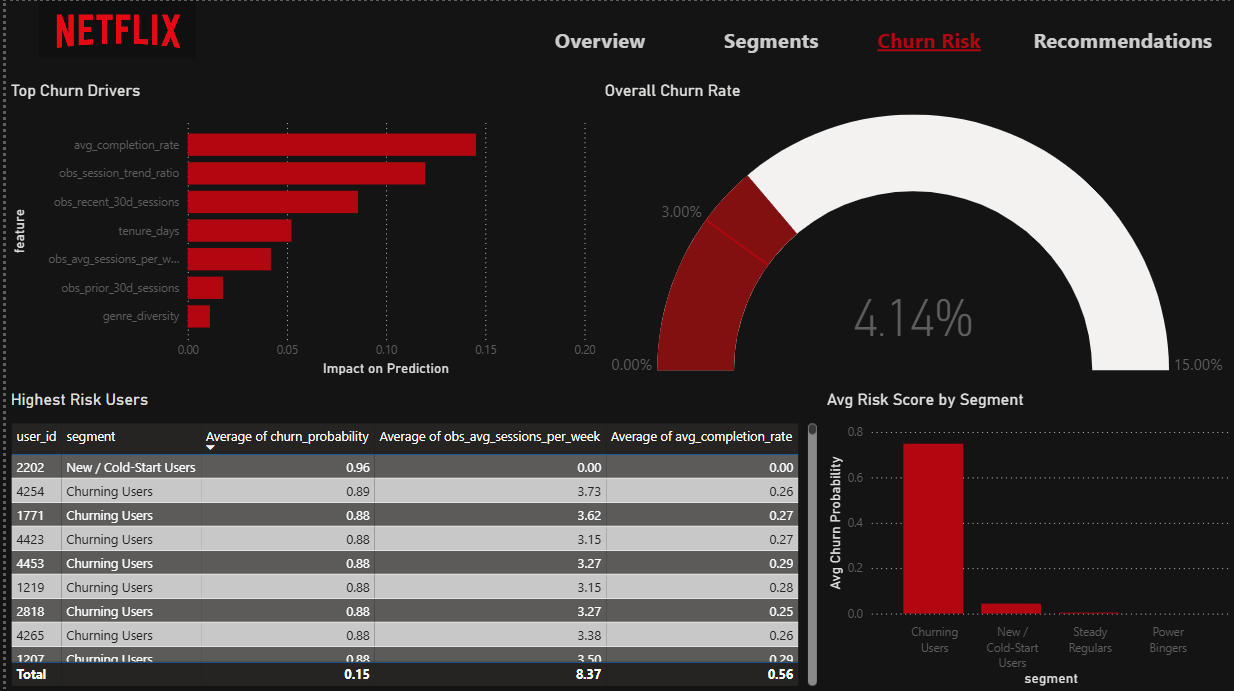

This screenshot's page, from the dashboard's own definition file:
{"tool":"powerbi","page":{"name":"Churn Risk","canvas":[1280,720],"ordinal":3},"visuals":[{"type":"image","box":[0,0,232.1,60],"z":4000},{"type":"clusteredBarChart","title":"Top Churn Drivers","fields":{"Category":["dashboard_shap_importance.feature"],"Y":["Sum(dashboard_shap_importance.mean_abs_shap)"]},"box":[0,83.3,619.3,311.9],"z":5000},{"type":"gauge","title":"Overall Churn Rate","fields":{"Y":["Avg(dashboard_segments.churned_next_30d)"]},"box":[619.3,83.3,660.2,311.9],"z":6000},{"type":"tableEx","title":"Highest Risk Users","fields":{"Values":["dashboard_churn_risk.user_id","dashboard_churn_risk.segment","Avg(dashboard_churn_risk.churn_probability)","Avg(dashboard_churn_risk.obs_avg_sessions_per_week)","Avg(dashboard_churn_risk.avg_completion_rate)"]},"box":[0,404.3,849.5,313.4],"z":7000},{"type":"clusteredColumnChart","title":"Avg Risk Score by Segment","fields":{"Category":["dashboard_churn_risk.segment"],"Y":["Avg(dashboard_churn_risk.churn_probability)"]},"box":[849.5,404.3,430,313.4],"z":8000},{"type":"actionButton","title":"Overview","box":[529.8,20.4,178.7,39.4],"z":8001},{"type":"actionButton","title":"Recommendations","box":[1065.5,20.4,195.3,39.4],"z":8002},{"type":"actionButton","title":"Segments","box":[708.9,20.4,175.6,39.4],"z":8003},{"type":"actionButton","title":"Churn Risk","box":[885,20.4,154.4,39.4],"z":8004}]}

Visuals, with their boxes in screenshot pixels (x1, y1, x2, y2), scaled from the page's 1280x720 canvas onto the 1234x691 screenshot:
image: [left=0, top=0, right=224, bottom=58]
"Top Churn Drivers" clusteredBarChart: [left=0, top=80, right=597, bottom=379]
"Overall Churn Rate" gauge: [left=597, top=80, right=1233, bottom=379]
"Highest Risk Users" tableEx: [left=0, top=388, right=819, bottom=689]
"Avg Risk Score by Segment" clusteredColumnChart: [left=819, top=388, right=1233, bottom=689]
"Overview" actionButton: [left=511, top=20, right=683, bottom=57]
"Recommendations" actionButton: [left=1027, top=20, right=1215, bottom=57]
"Segments" actionButton: [left=683, top=20, right=853, bottom=57]
"Churn Risk" actionButton: [left=853, top=20, right=1002, bottom=57]
